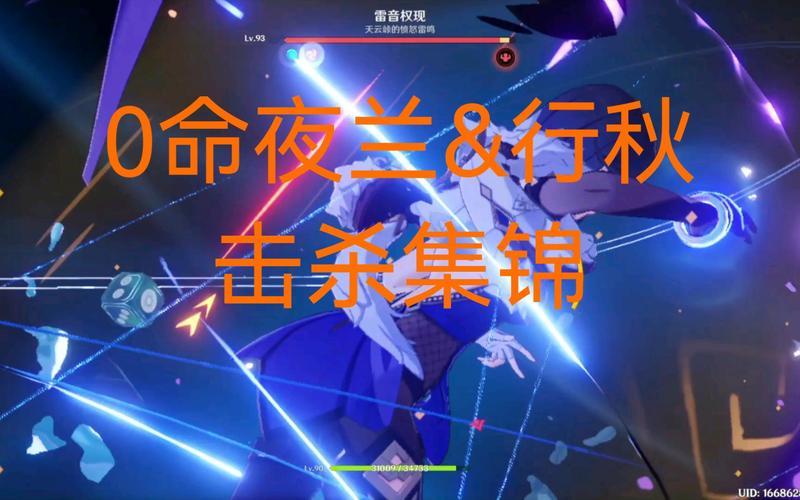夜兰: (241, 81, 756, 499)
